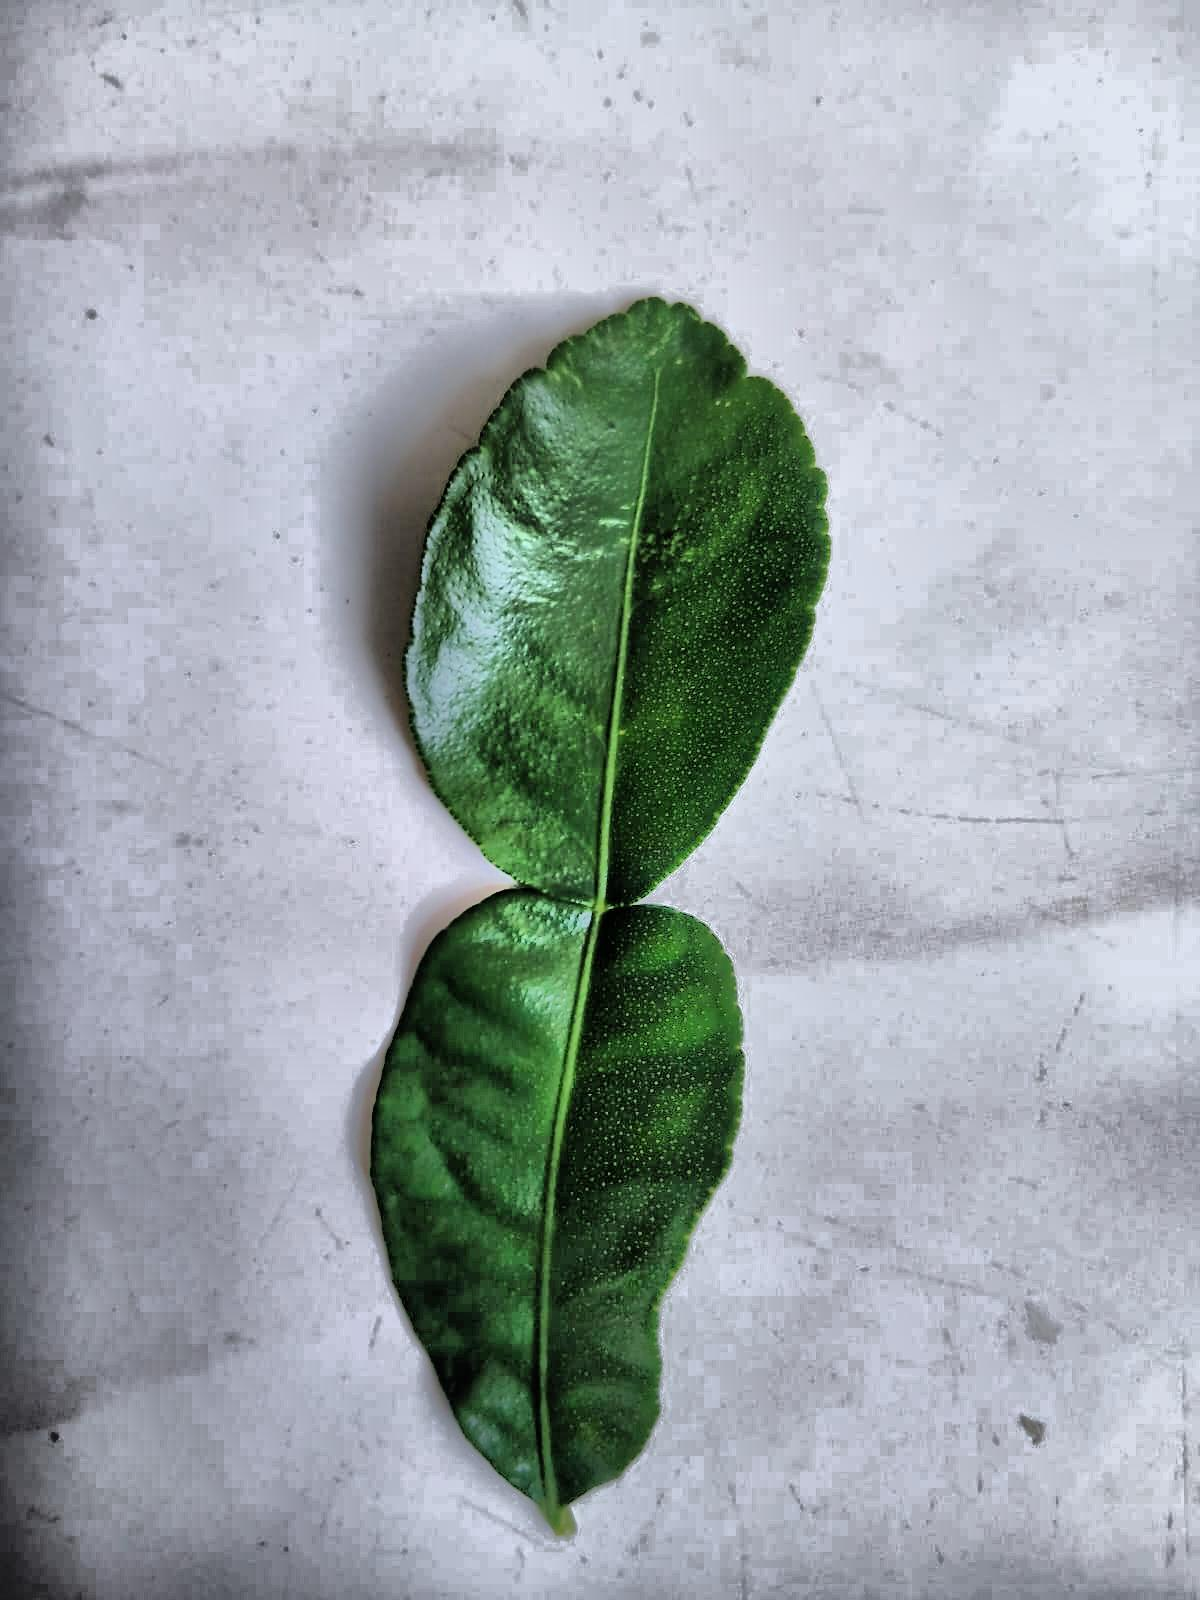daun jeruk: (371, 299, 829, 1531), (500, 627, 507, 630)
